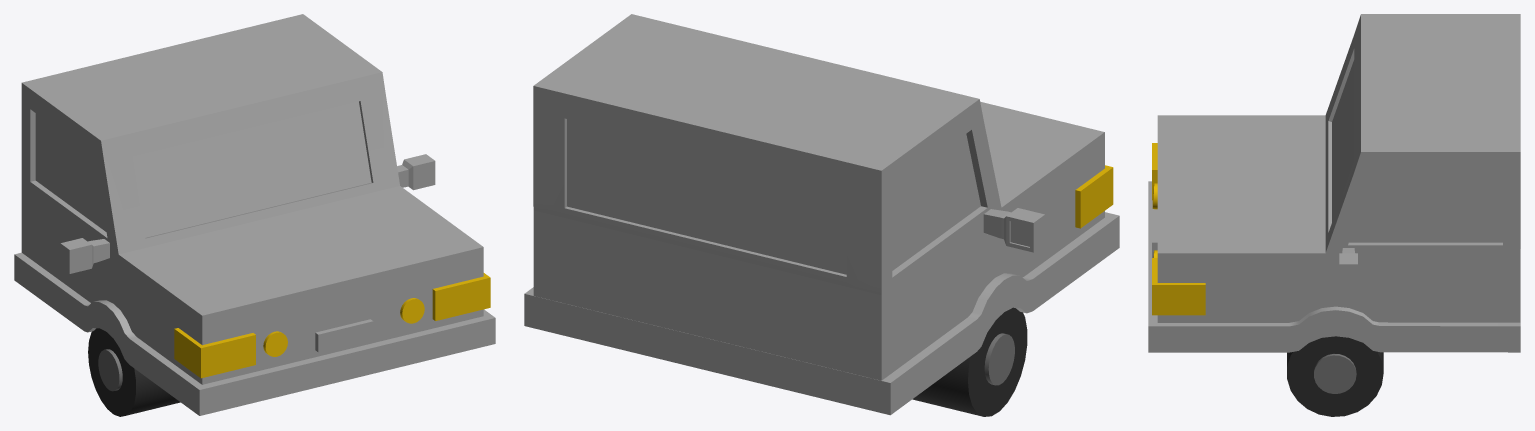
The model's file is avant pickup.fbx.
3 views of the same model, side by side, from view 1: azimuth 30°, elevation 25°; view 2: azimuth 150°, elevation 25°; view 3: azimuth 270°, elevation 25° (orthographic). The views are drawn at different scales.
Parts seen in each view (by area): view 1: avant_pickup; view 2: avant_pickup; view 3: avant_pickup.
Part boxes in pixels (x1,y1,x2,y2): avant_pickup: (14, 14, 495, 416); avant_pickup: (524, 14, 1119, 416); avant_pickup: (1148, 14, 1520, 416).
Bounding box in the file's own units: 2.34 × 1.61 × 2.05.
